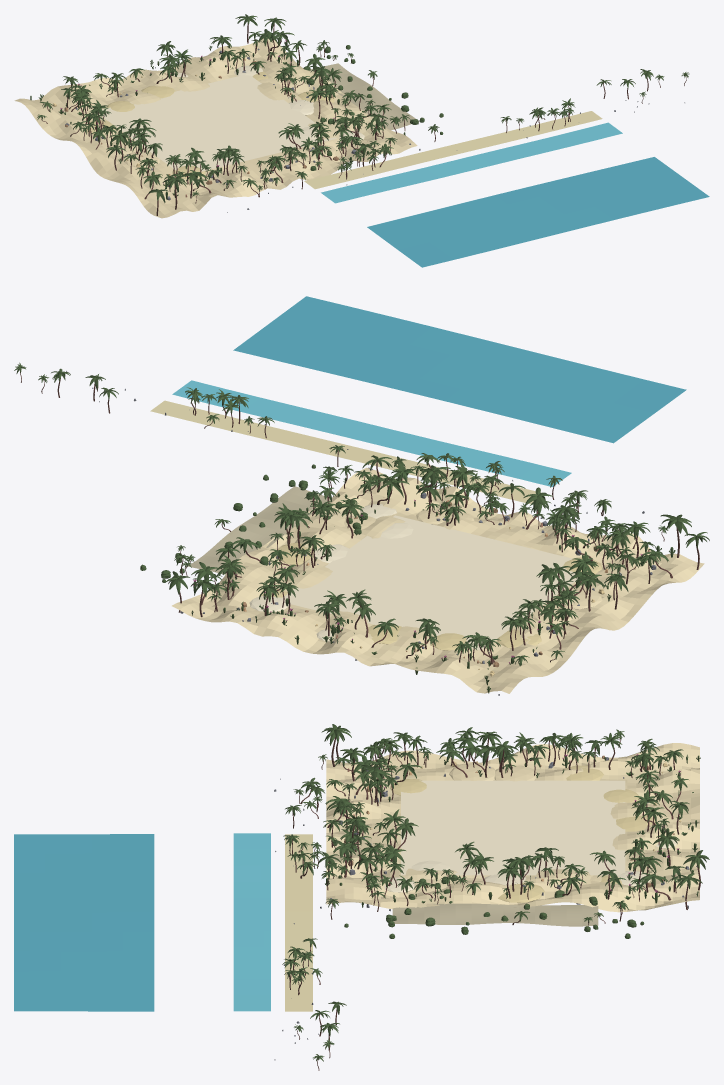
Rendered from spielfeld_wueste_border.glb.
3 renders of one model, top to bottom at view 1: azimuth 30°, elevation 25°; view 2: azimuth 150°, elevation 25°; view 3: azimuth 270°, elevation 25°, orthographic. The views are drawn at different scales.
Visible parts, largest first — view 1: DesertTerrain, Ocean_Deep, DesertGrid, Ocean_Shallow, Beach_Main, Transition_Strip; view 2: DesertTerrain, Ocean_Deep, DesertGrid, Ocean_Shallow, Beach_Main, Transition_Strip; view 3: Ocean_Deep, DesertTerrain, DesertGrid, Ocean_Shallow, Beach_Main, Transition_Strip, DesertPatch_9, DesertPatch_15, DesertPatch_17.
Boxes of the visible parts, bbox=[...] form: DesertTerrain: bbox=[14, 38, 417, 218]; Ocean_Deep: bbox=[367, 157, 709, 267]; DesertGrid: bbox=[99, 75, 336, 171]; Ocean_Shallow: bbox=[321, 122, 622, 203]; Beach_Main: bbox=[304, 111, 602, 189]; Transition_Strip: bbox=[310, 63, 419, 130]; DesertTerrain: bbox=[172, 467, 704, 693]; Ocean_Deep: bbox=[233, 296, 686, 443]; DesertGrid: bbox=[281, 515, 597, 650]; Ocean_Shallow: bbox=[172, 380, 571, 486]; Beach_Main: bbox=[150, 400, 541, 504]; Transition_Strip: bbox=[188, 486, 332, 575]; Ocean_Deep: bbox=[14, 834, 154, 1011]; DesertTerrain: bbox=[326, 743, 699, 912]; DesertGrid: bbox=[401, 780, 625, 875]; Ocean_Shallow: bbox=[233, 833, 270, 1011]; Beach_Main: bbox=[285, 834, 312, 1011]; Transition_Strip: bbox=[392, 903, 598, 926]; DesertPatch_9: bbox=[449, 763, 495, 780]; DesertPatch_15: bbox=[498, 882, 544, 902]; DesertPatch_17: bbox=[494, 765, 537, 781].
Size of the model in its own units: 83.38 by 6.62 by 74.46.
